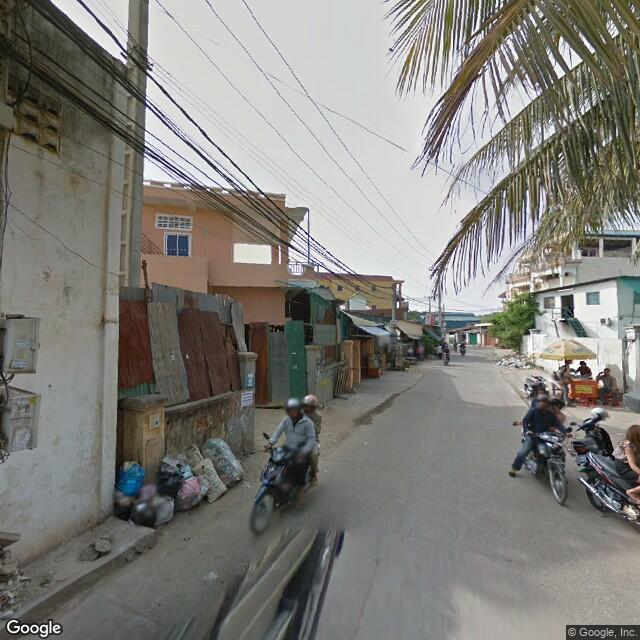litter: (193, 562, 222, 588)
